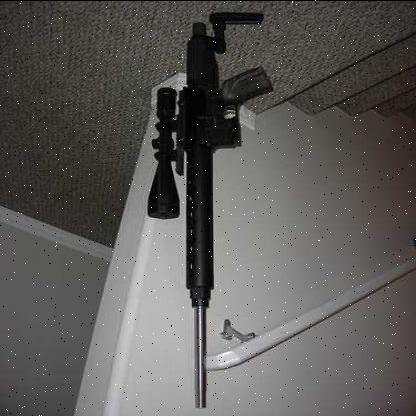rifle: (137, 10, 295, 410)
